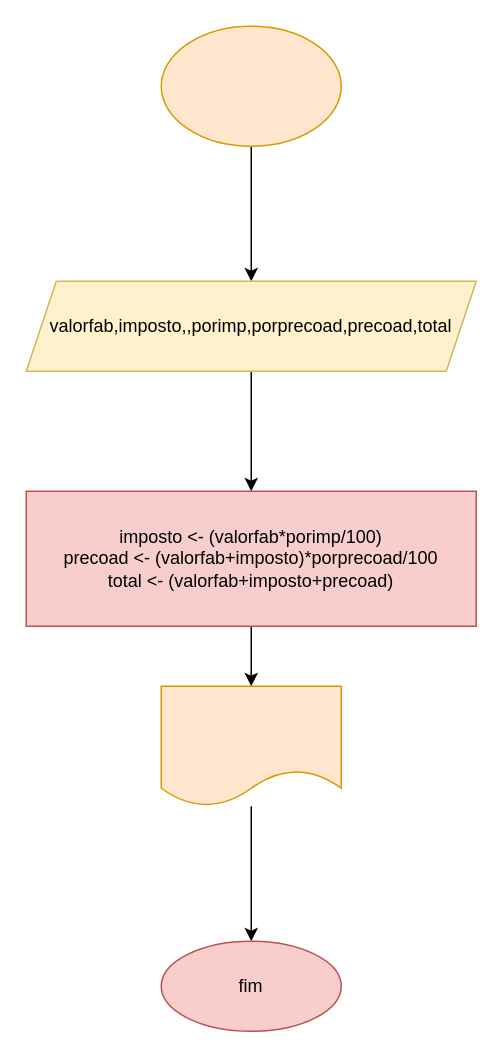
This 503x1058 diagram has some shape labels left out. Here are the shapes that lost their labels. From the top down, the centre of each, then its label:
(250,85): inicio
(250,745): imposto,precoad,total
